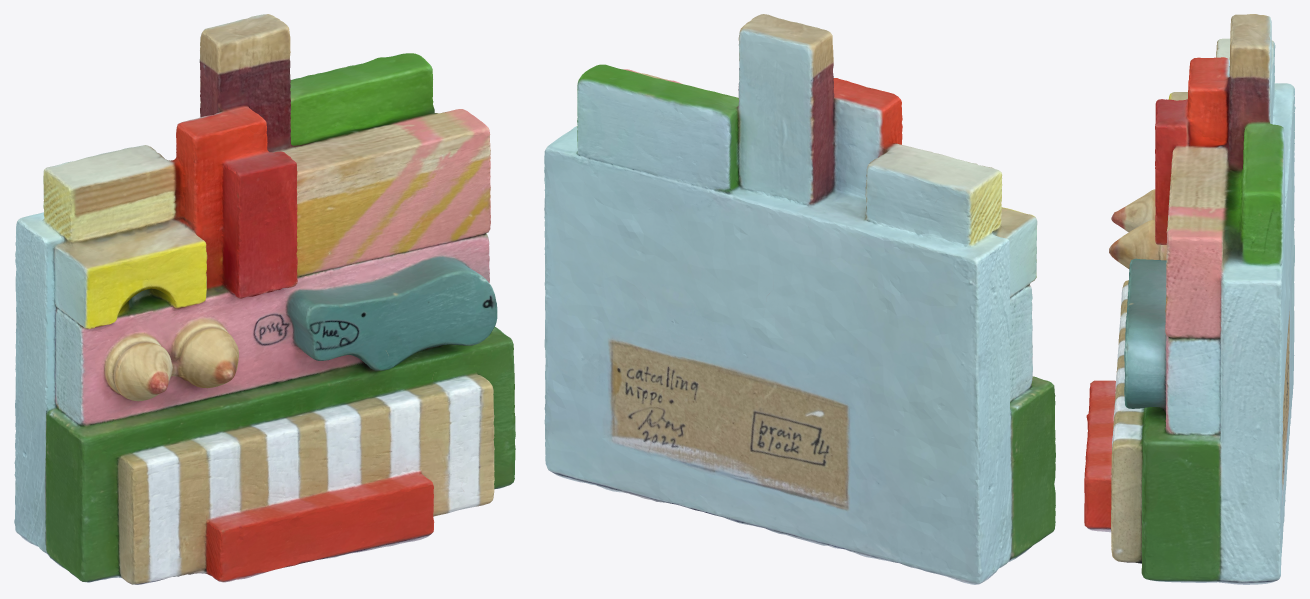
Rendered from Brainblock_14.gltf.
The picture shows the model from 3 angles, left to right: view 1: azimuth 30°, elevation 25°; view 2: azimuth 150°, elevation 25°; view 3: azimuth 270°, elevation 25°; orthographic projection. The views are drawn at different scales.
Size of the model in its own units: 0.1502 by 0.1594 by 0.0664.
1 material, 1 textured.
